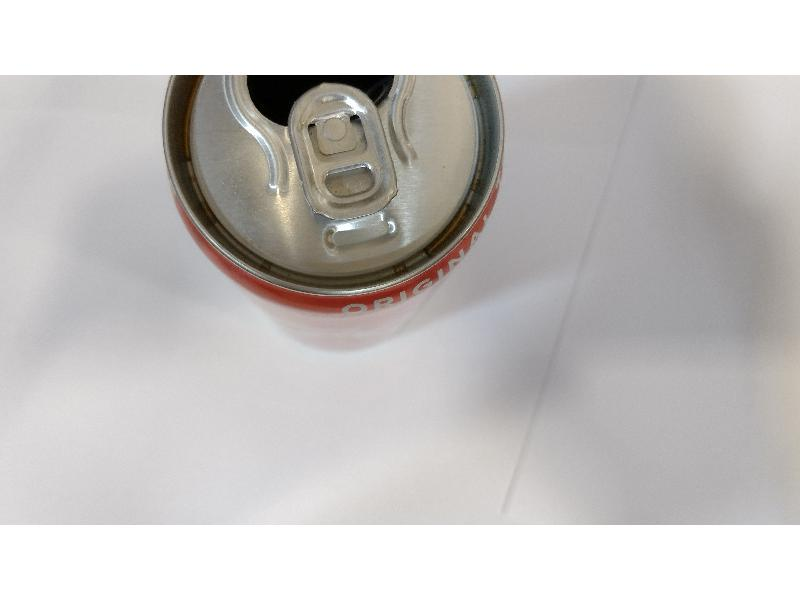can: (156, 73, 511, 328)
